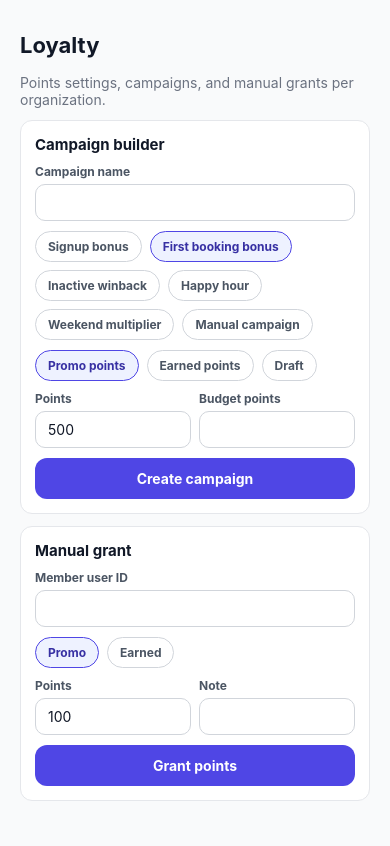
Test: OwnerLoyaltyScreen › grants manual points
The width and height of the screenshot is (390, 846).
Expected: the text "Manual grant" is shown, [35,541,132,560]
Type "user_1" into the field named "Member user ID" at (195, 608), box [35,590,355,627]
(page scrolled)
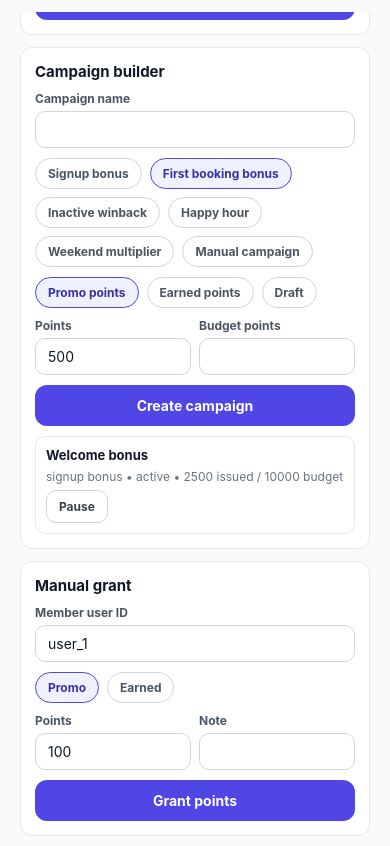
Click the button with aria-label "Grant earned points" at (141, 688), box [107,672,174,703]
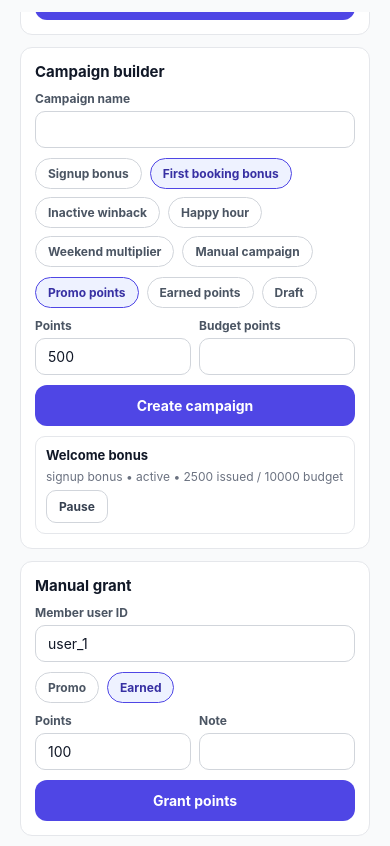
Replace the text in the field named "Grant points" with "250" at (113, 752), box [35,733,191,770]
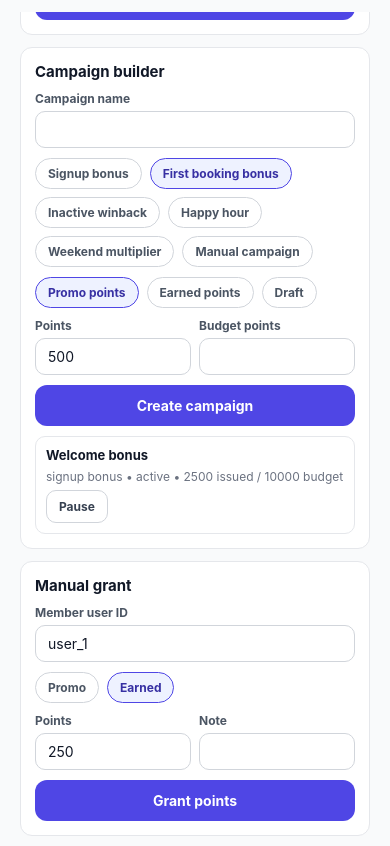
Type "Service recovery" into the field named "Grant note" at (277, 752), box [199,733,355,770]
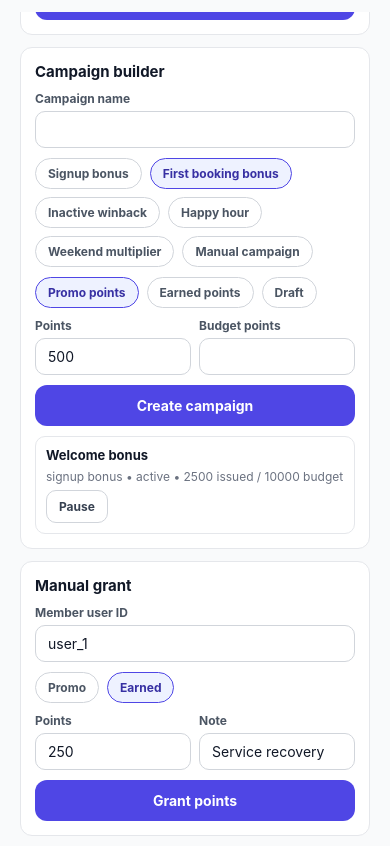
Click the button with aria-label "Submit manual grant" at (195, 800), box [35,780,355,821]
(page scrolled)
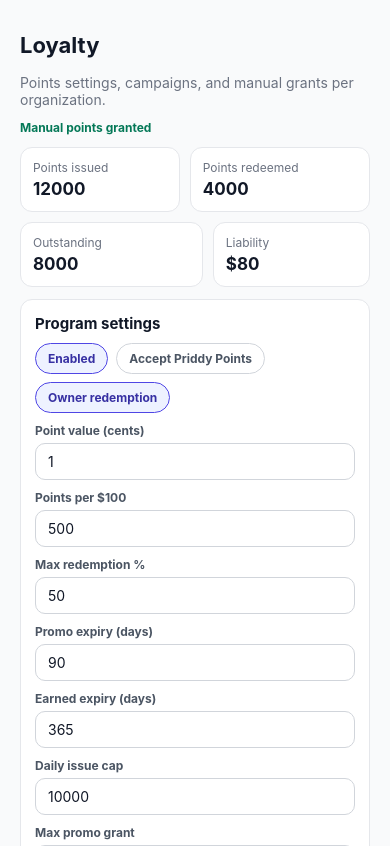
Now the text "Manual points granted" is shown, box [20,120,151,135]
